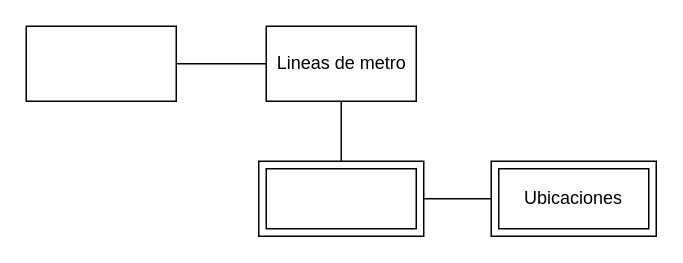
Some shapes in this 683 by 263 pixel diagram are drawn without their labels. The shapes that lost their labels are listed below. From the top down, each one's centre as x and y in pixels, then its label:
At pixel 100 63: "Trenes".
At pixel 340 198: "Estaciones".
